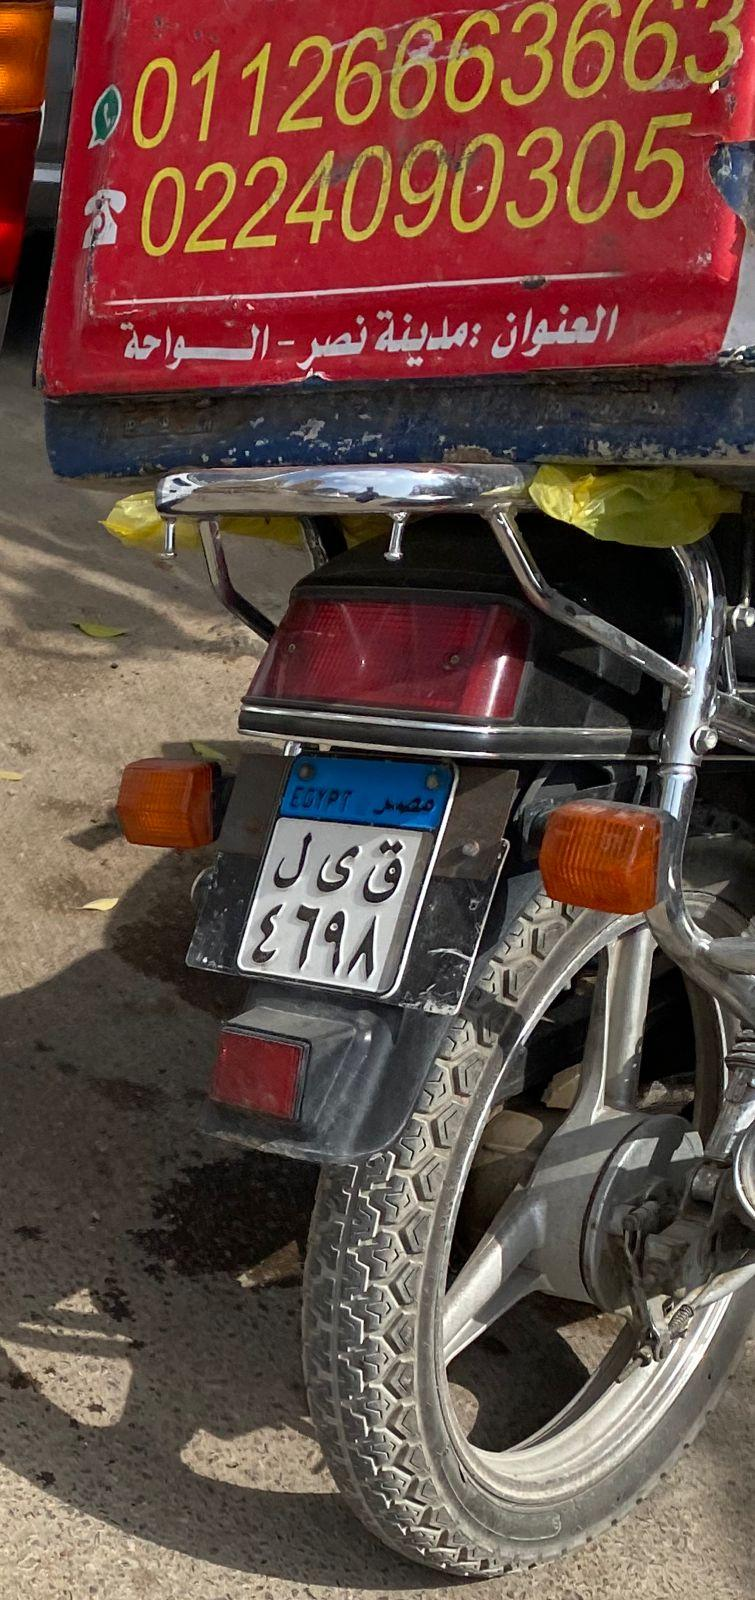License Plate: (224, 742, 464, 1000)
